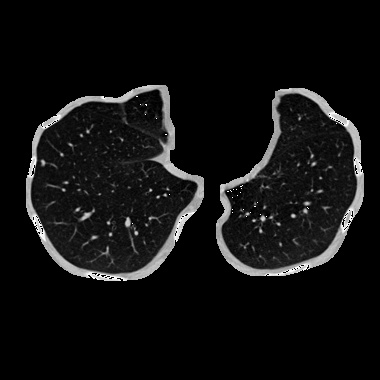PN: (41, 161, 45, 165)
